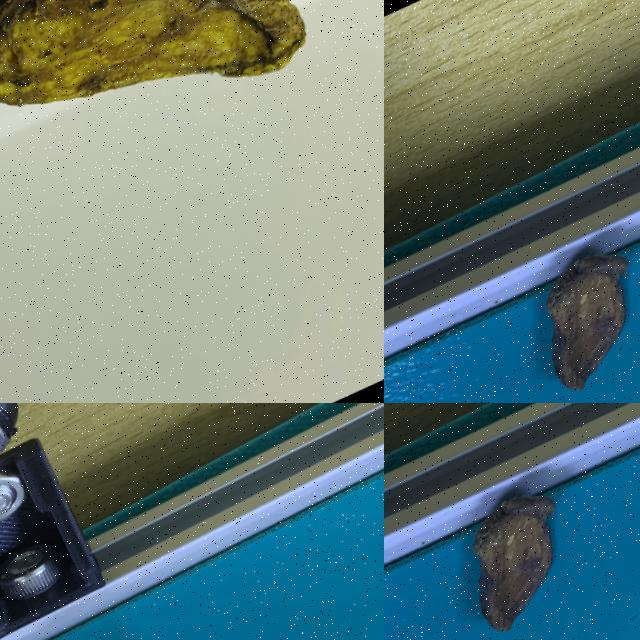Agglomerated_cocoabeans: (0, 0, 352, 230)
Flat_cocoabeans: (384, 437, 639, 639), (450, 196, 639, 402)
